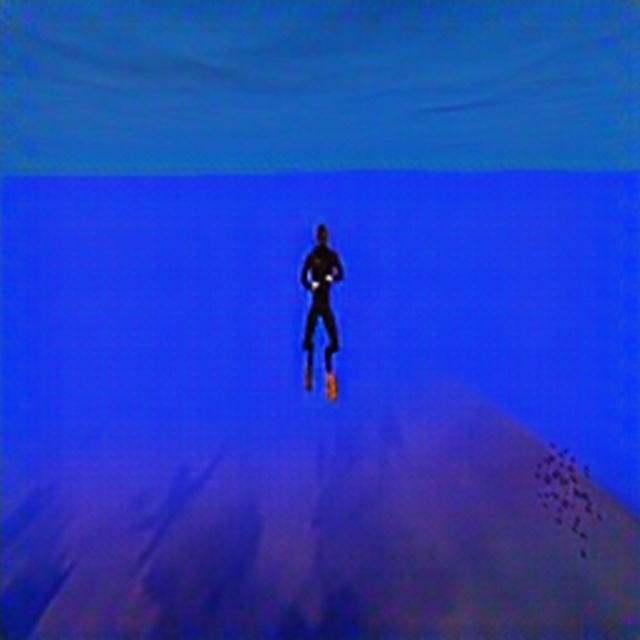diver: (297, 219, 346, 400)
